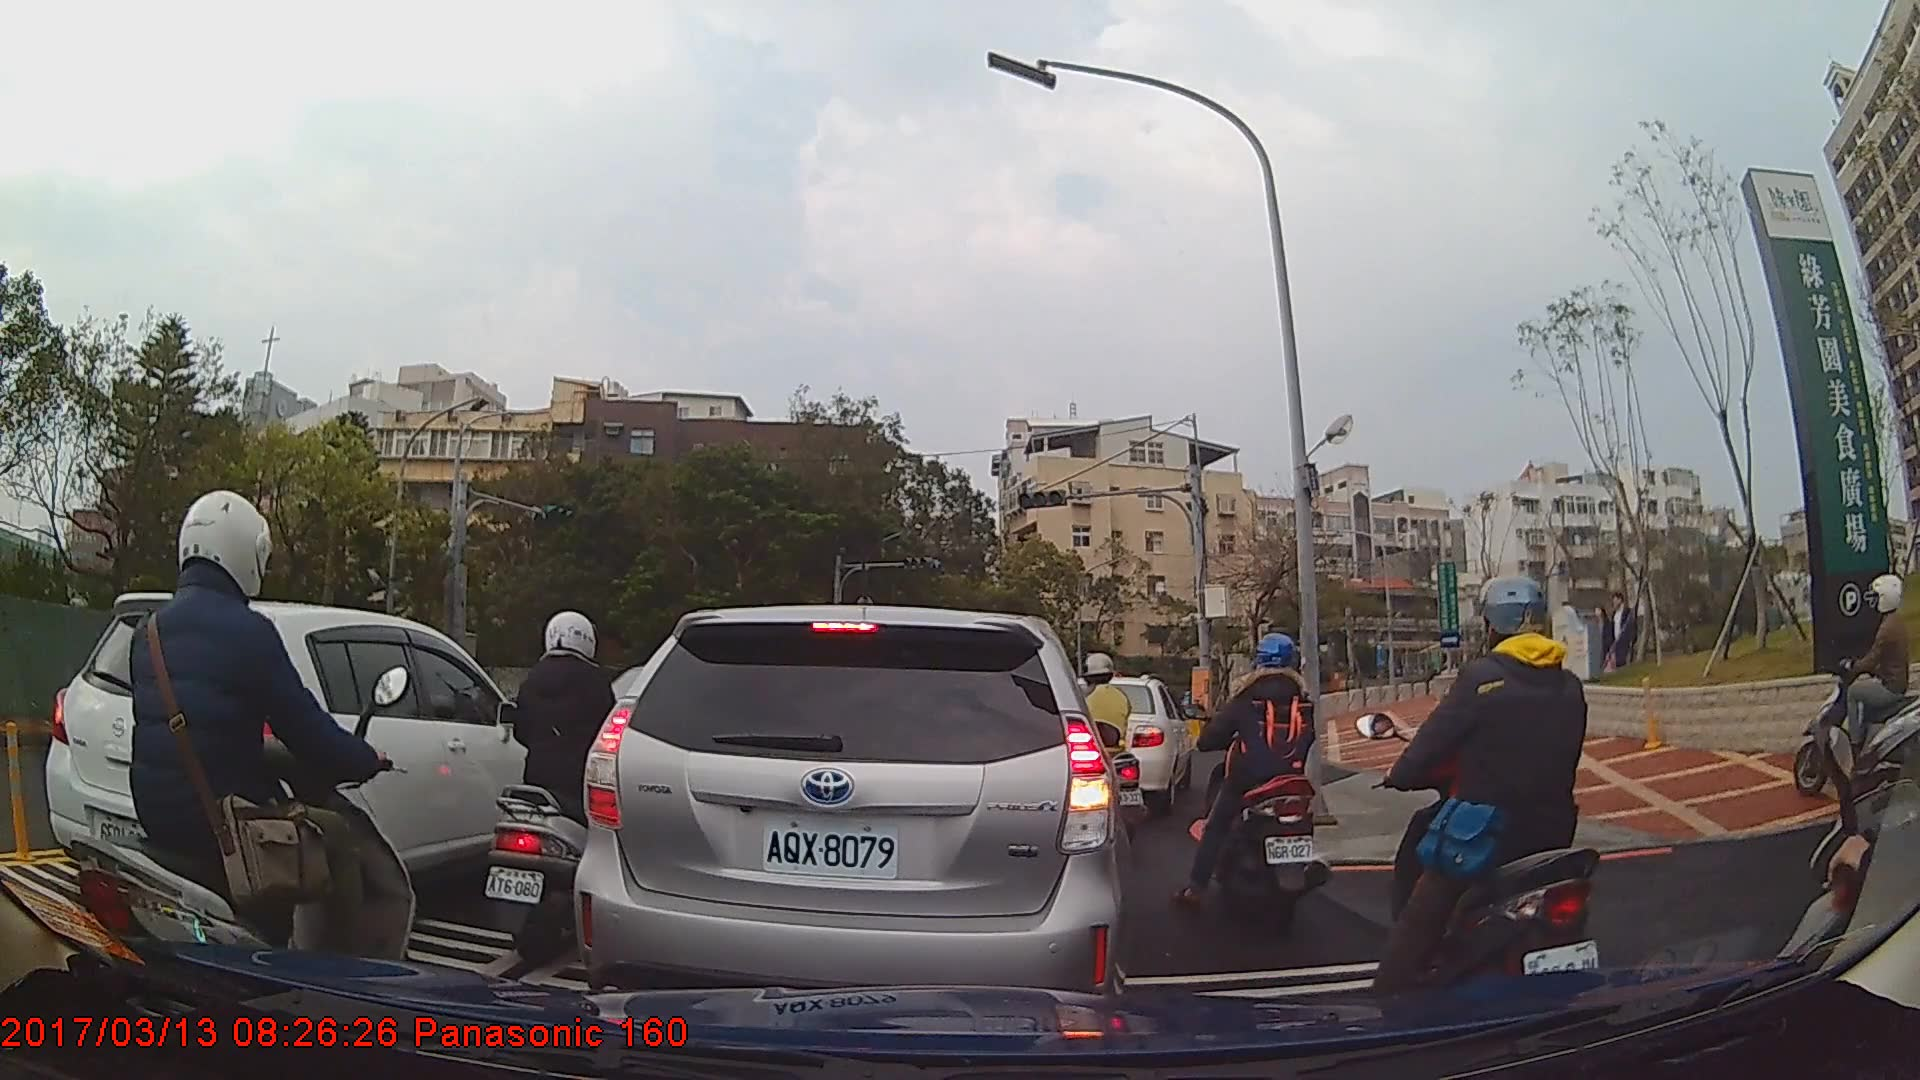pedestrian: (1601, 582, 1644, 679), (1583, 595, 1619, 687)
rider: (69, 491, 417, 1049), (1354, 574, 1611, 1030), (480, 608, 649, 969), (1174, 630, 1339, 939), (1789, 575, 1920, 800), (1057, 653, 1147, 843)
vehicle: (568, 601, 1139, 1033), (40, 591, 572, 929), (1049, 672, 1193, 816)
